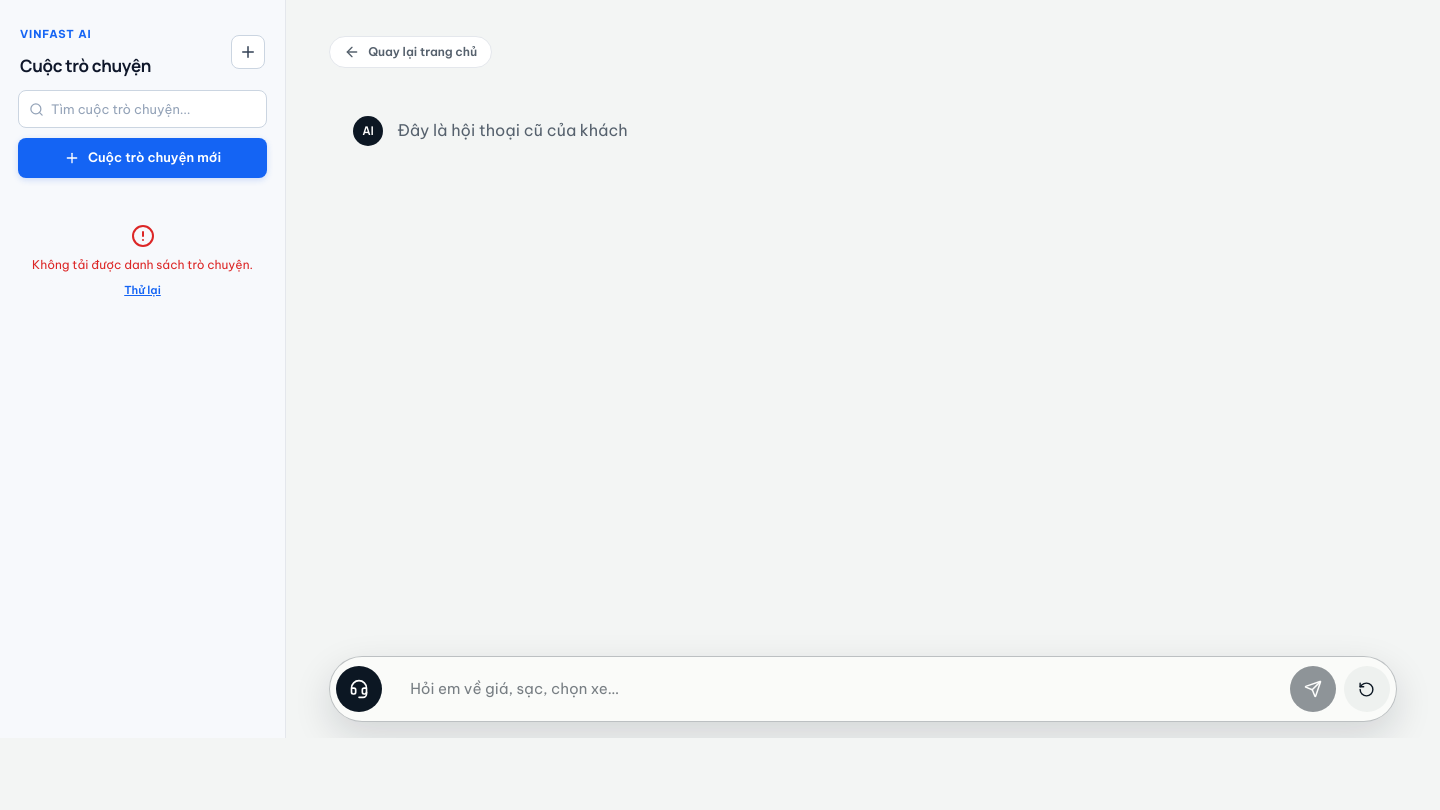
Test case: Nút tạo cuộc trò chuyện mới › xoá sạch hội thoại cũ khi khách ở trong một hội thoại đã lưu
Expected: the text "Đây là hội thoại cũ của khách" is shown, top-left (397, 120), bottom-right (628, 140)
What coordinates should you click on to do the following:
click the button with aria-label "Bắt đầu cuộc trò chuyện mới"
I would click on:
 (142, 158)
Its box is top-left (18, 138), bottom-right (267, 178).
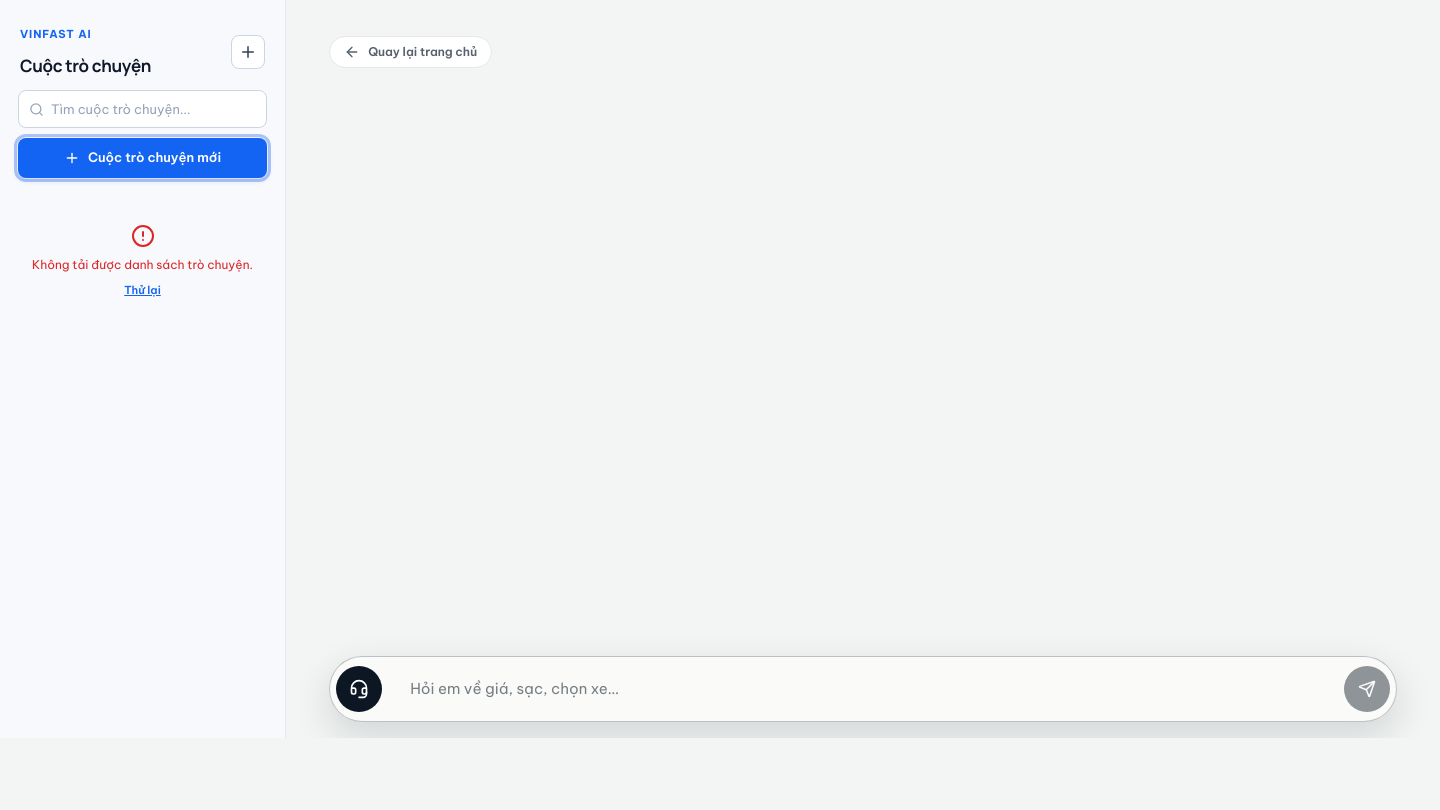
Expected: the text "Đây là hội thoại cũ của khách" is gone
